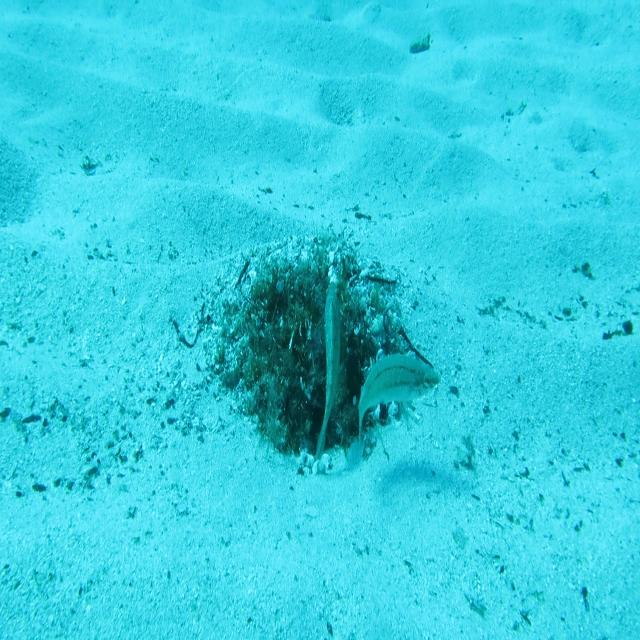FAN: (309, 272, 346, 462)
core_nest: (279, 288, 331, 321)
female: (354, 347, 444, 450)
nest: (199, 232, 423, 482)
vegetation: (407, 34, 431, 59)
